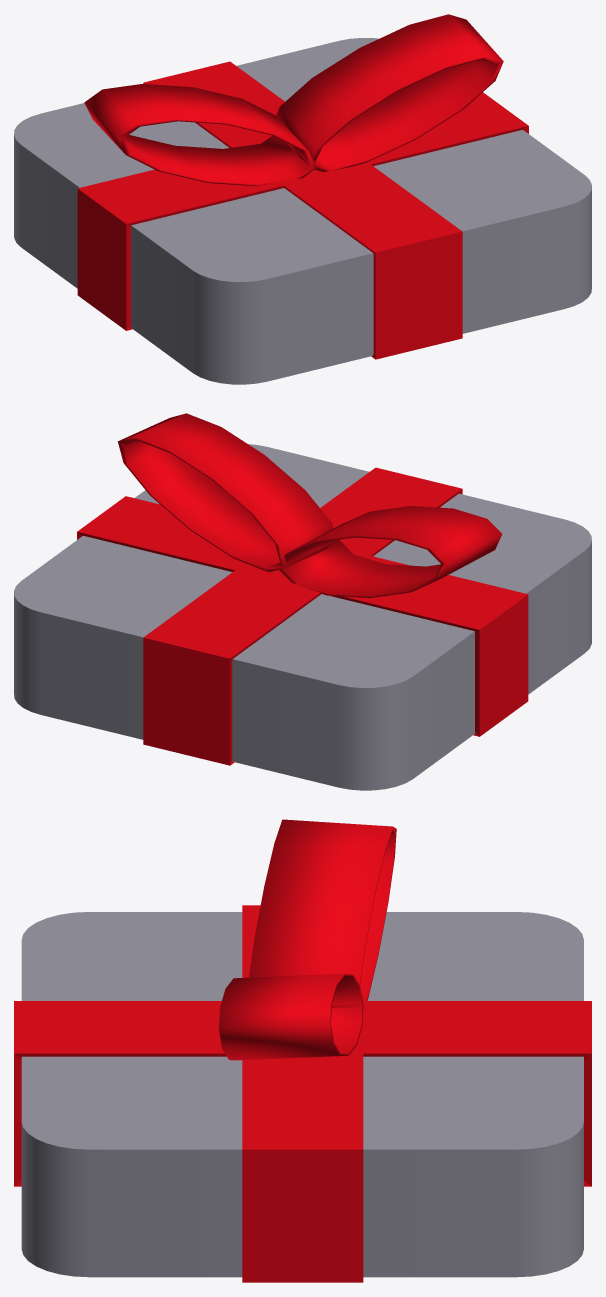
File: blockSurprise.fbx
3 views of the same model, one above another, from view 1: azimuth 30°, elevation 25°; view 2: azimuth 150°, elevation 25°; view 3: azimuth 270°, elevation 25° (orthographic). The views are drawn at different scales.
Parts seen in each view (by area): view 1: Block; view 2: Block; view 3: Block.
Part boxes in pixels (bbox=[...]): Block: bbox=[14, 14, 591, 384]; Block: bbox=[14, 413, 591, 790]; Block: bbox=[14, 819, 591, 1282].
Bounding box in the file's own units: 4.12 × 1.99 × 4.12.
